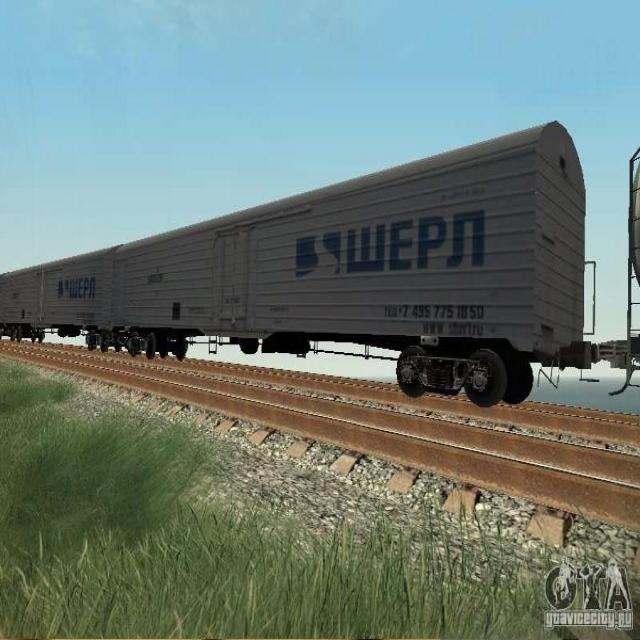boxcar: (111, 99, 601, 416), (0, 238, 114, 360)
